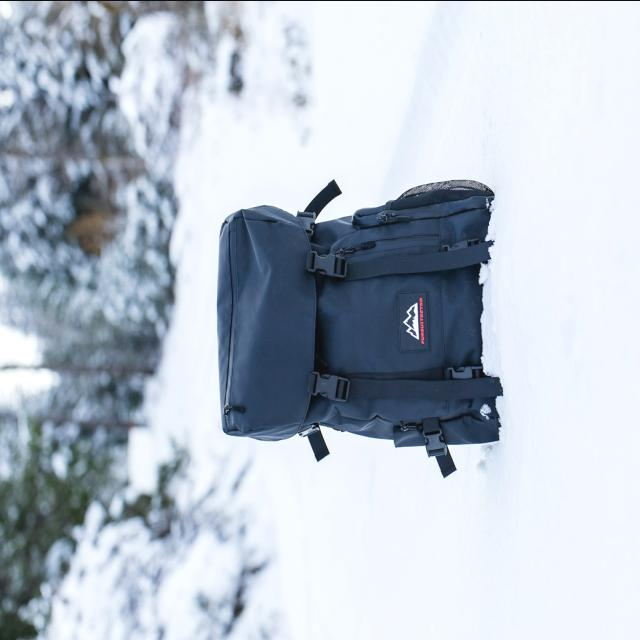backpack: (217, 179, 504, 479)
